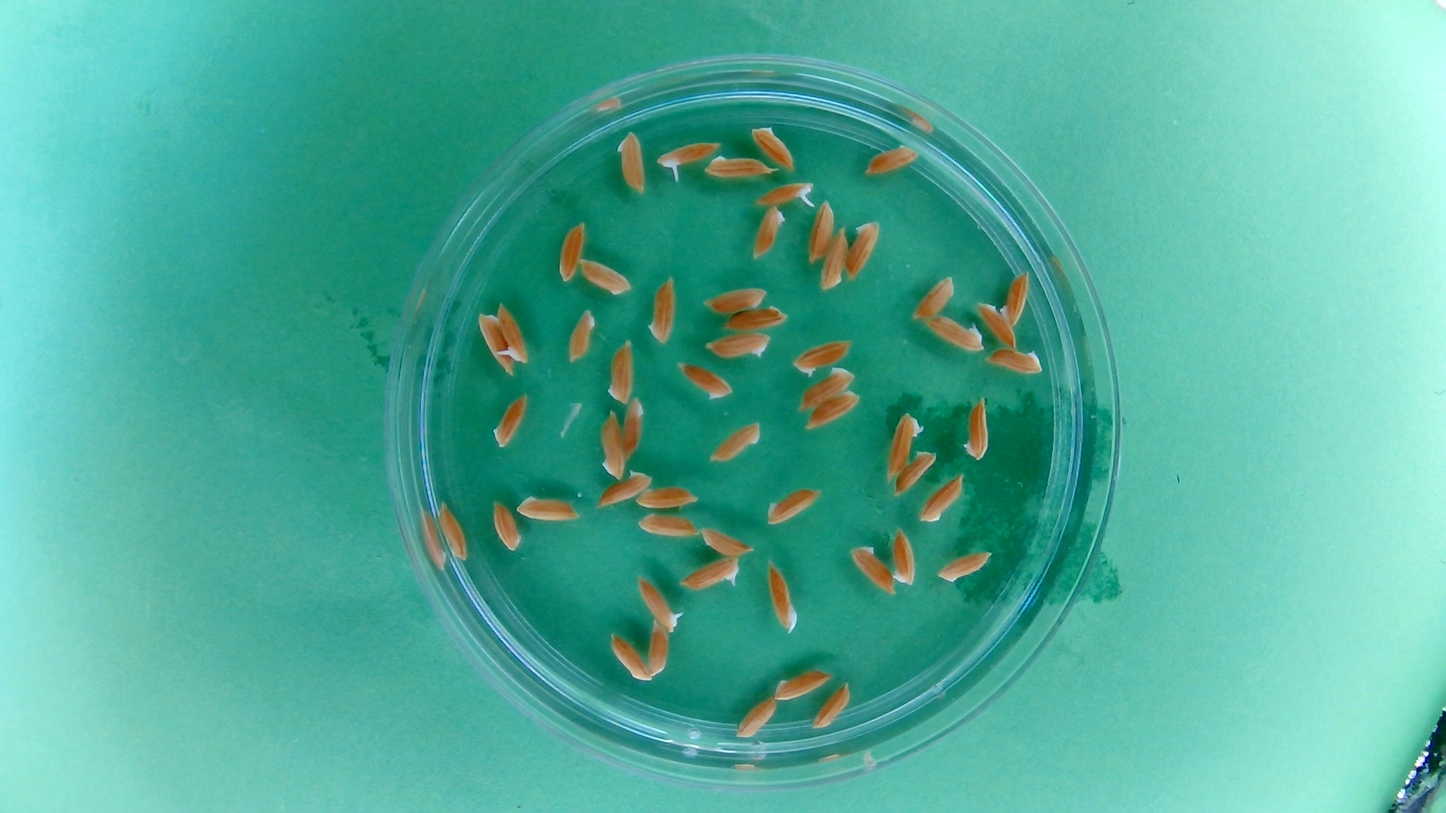no: (796, 365, 856, 413), (885, 408, 924, 480), (764, 559, 800, 634), (789, 336, 853, 378), (707, 418, 764, 465), (804, 389, 864, 433), (848, 542, 895, 598), (674, 359, 735, 402), (763, 484, 824, 527), (922, 312, 984, 354), (844, 217, 882, 285), (917, 471, 965, 524), (645, 274, 680, 346), (749, 121, 798, 172), (595, 468, 653, 511), (490, 392, 530, 451), (595, 406, 626, 482), (892, 447, 938, 498), (959, 394, 993, 463), (435, 499, 471, 564), (773, 667, 836, 704), (608, 631, 651, 684), (702, 330, 772, 362), (578, 257, 634, 297), (511, 492, 581, 524), (975, 297, 1018, 349), (810, 680, 853, 732), (554, 218, 587, 285), (719, 304, 792, 334), (863, 141, 922, 178), (700, 284, 770, 315), (911, 273, 956, 321), (615, 129, 647, 196), (605, 336, 636, 405), (751, 202, 787, 261), (734, 694, 779, 741), (635, 482, 702, 513), (703, 153, 777, 181), (819, 227, 850, 293), (1001, 267, 1033, 330), (480, 313, 512, 376), (565, 306, 599, 365), (489, 496, 523, 555), (634, 510, 700, 540), (697, 525, 755, 559), (984, 345, 1045, 376), (889, 525, 920, 586), (935, 550, 992, 583), (807, 199, 836, 263), (621, 397, 649, 461), (645, 621, 672, 681)
yes: (635, 574, 682, 633), (496, 299, 531, 364), (680, 556, 742, 592), (657, 139, 719, 174), (753, 180, 816, 208)
